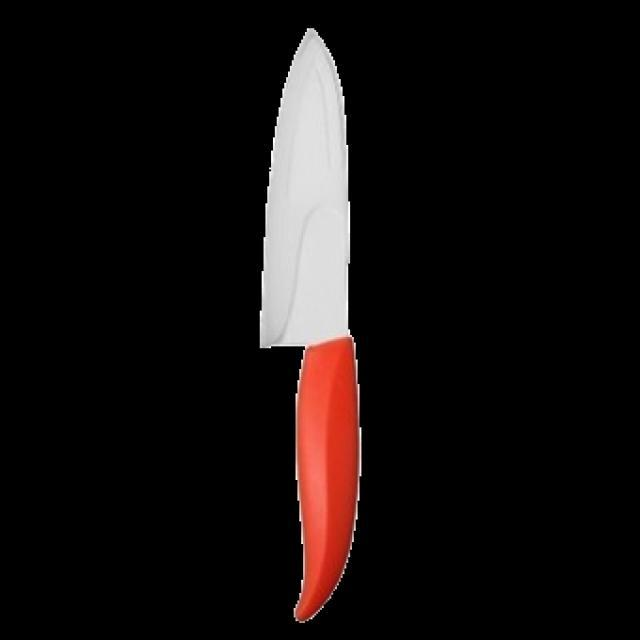knife: (257, 31, 364, 635)
